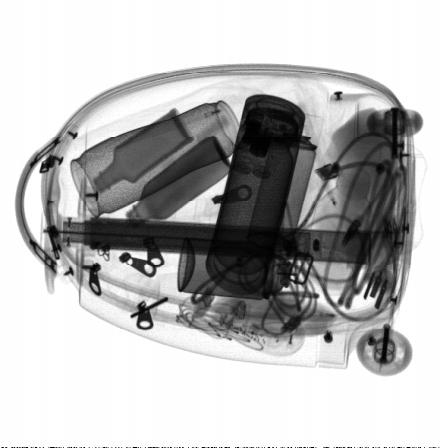Sprayer: (247, 111, 323, 252), (178, 238, 302, 301)
